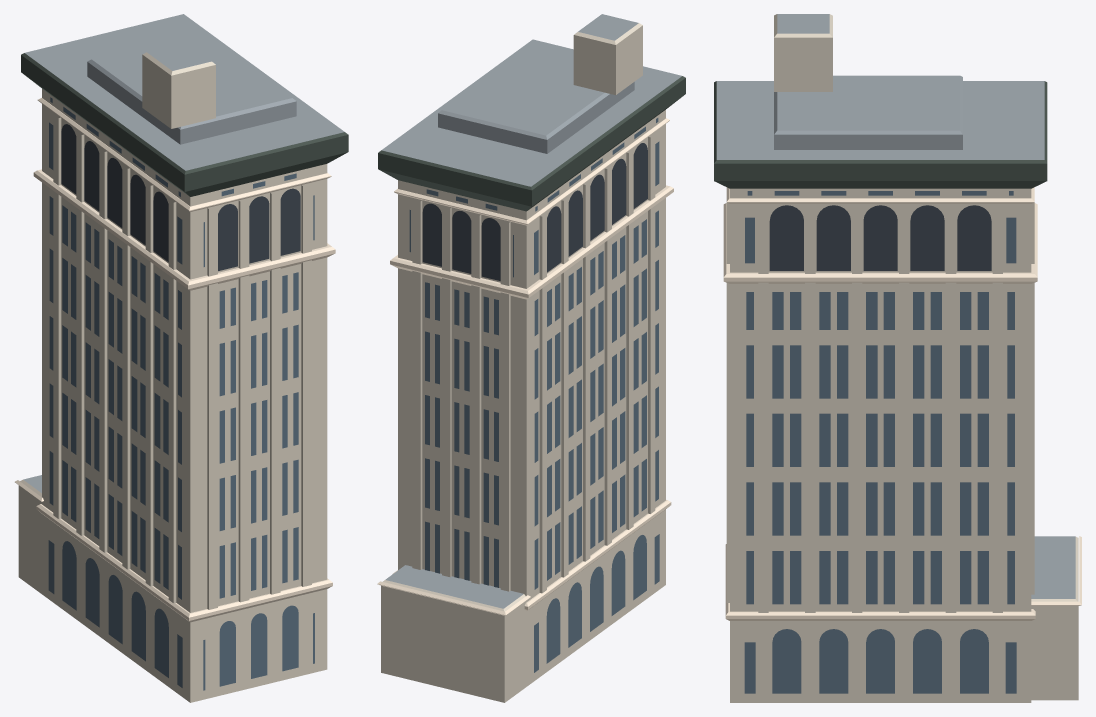
Rendered from cola-palmetto-building.glb.
3 views of the same model, side by side, from view 1: azimuth 30°, elevation 25°; view 2: azimuth 150°, elevation 25°; view 3: azimuth 270°, elevation 25° (orthographic). The views are drawn at different scales.
Parts seen in each view (by area): view 1: Palmetto Building; view 2: Palmetto Building; view 3: Palmetto Building.
Part boxes in pixels (x1,y1,x2,y2): Palmetto Building: (15,14,348,702); Palmetto Building: (377,14,685,702); Palmetto Building: (714,14,1081,702).
Size of the model in its own units: 18.3 by 65.5 by 35.
